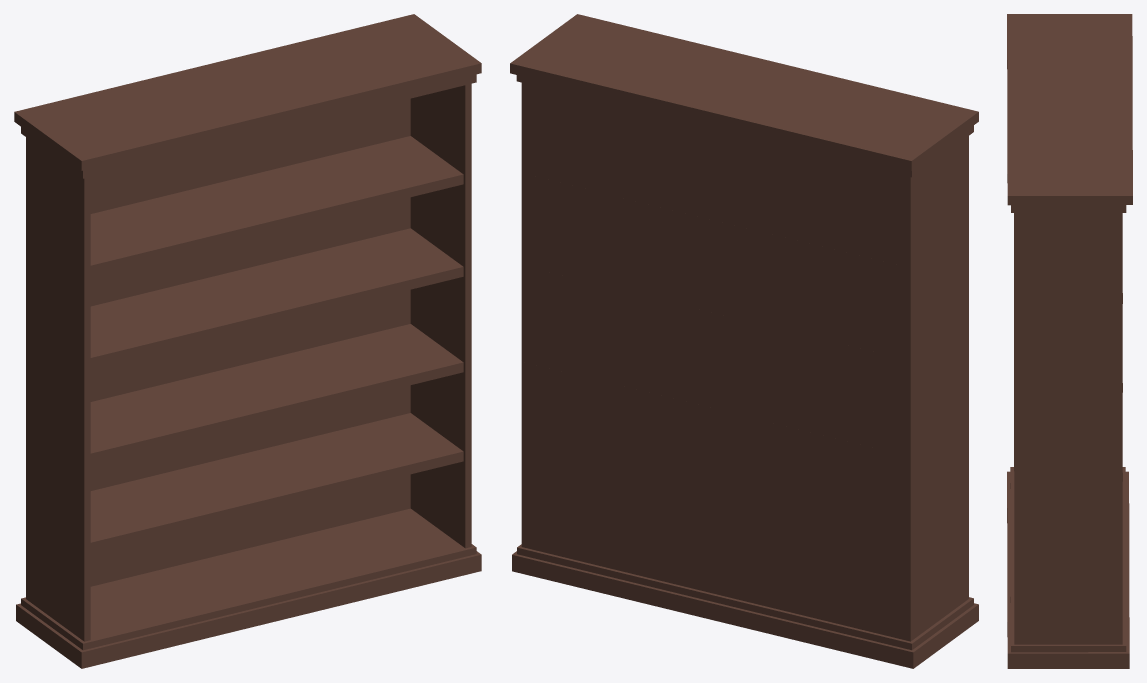
The model's file is ShoeCase.gltf.
3 renders of one model, left to right at view 1: azimuth 30°, elevation 25°; view 2: azimuth 150°, elevation 25°; view 3: azimuth 270°, elevation 25°, orthographic. The views are drawn at different scales.
Parts seen in each view (by area): view 1: node_MeshObject-2038833152-PolyPaper21; view 2: node_MeshObject-2038833152-PolyPaper21; view 3: node_MeshObject-2038833152-PolyPaper21.
Part boxes in pixels (left/top/right/bottom): node_MeshObject-2038833152-PolyPaper21: left=14, top=14, right=481, bottom=668; node_MeshObject-2038833152-PolyPaper21: left=510, top=14, right=978, bottom=668; node_MeshObject-2038833152-PolyPaper21: left=1007, top=14, right=1132, bottom=668.
Size of the model in its own units: 0.8321 by 1.01 by 0.2434.
